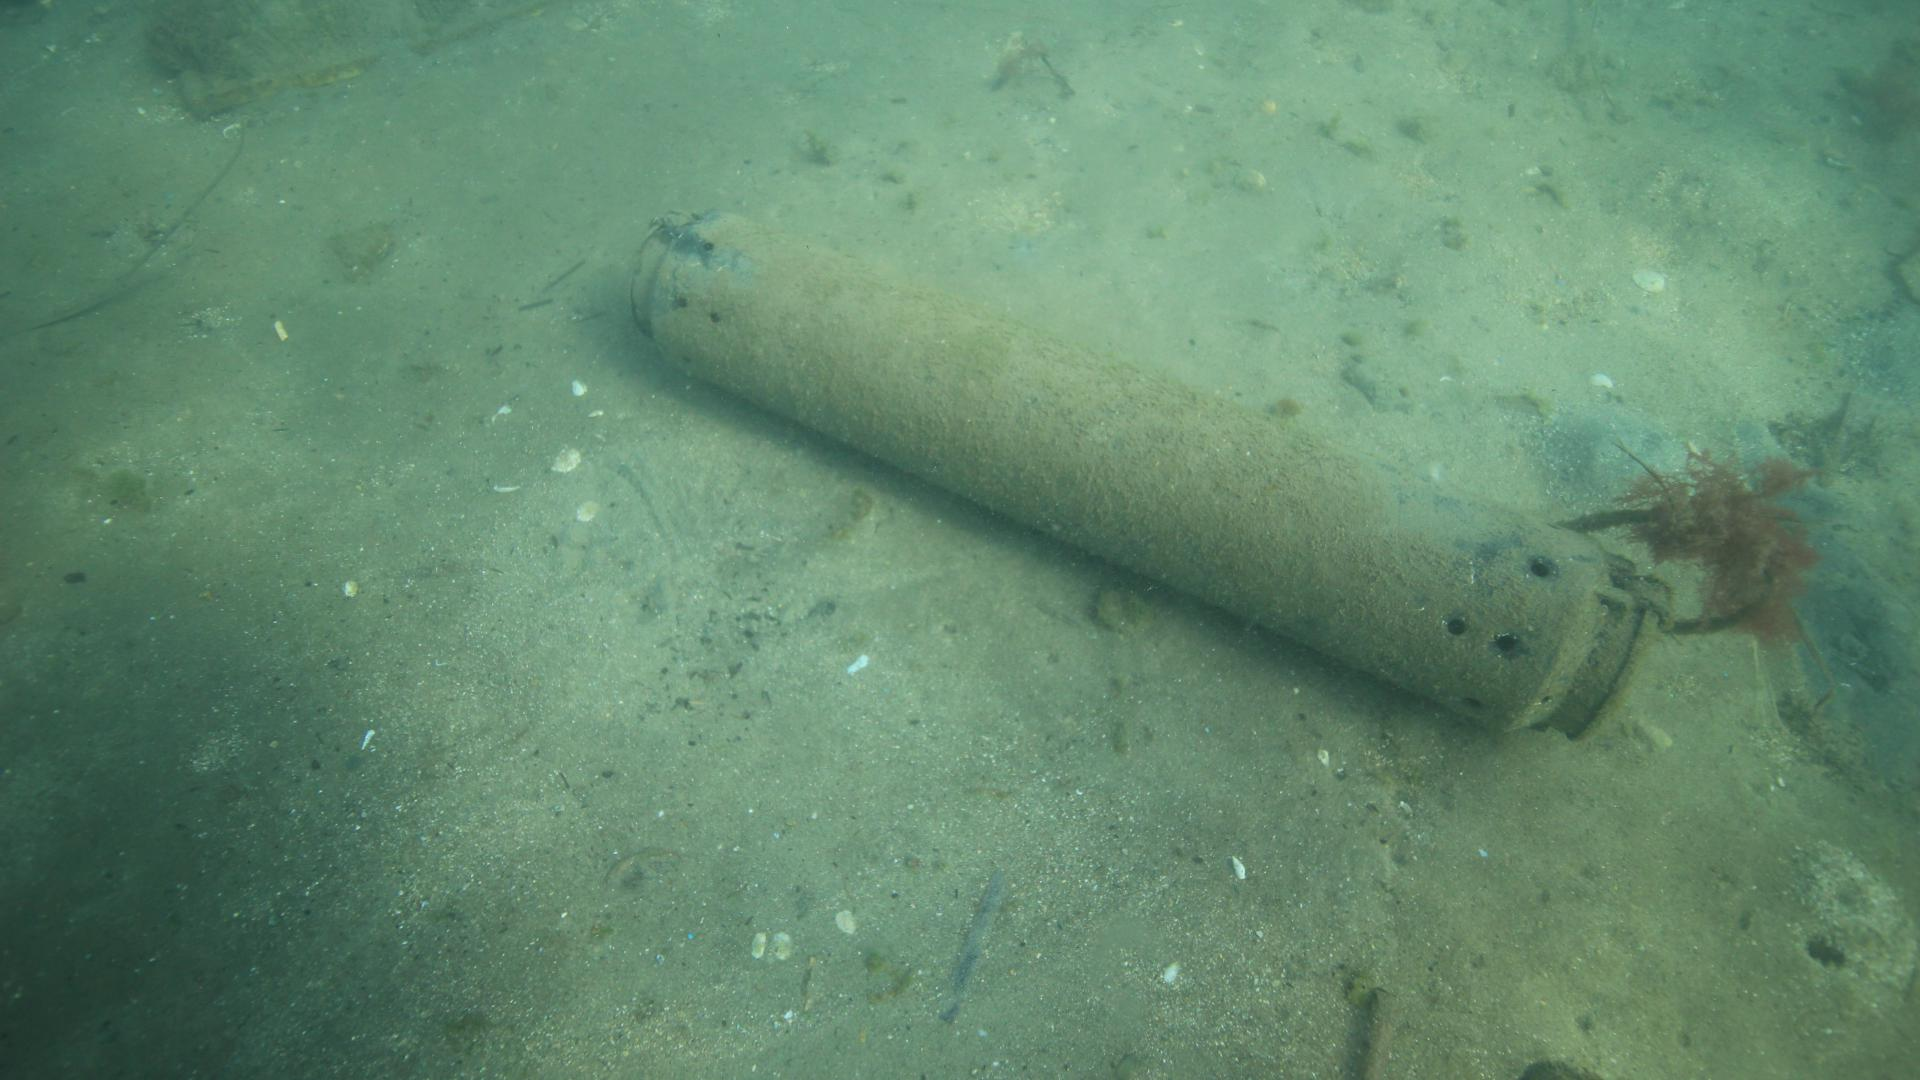eel fish trap: (622, 204, 1668, 746)
